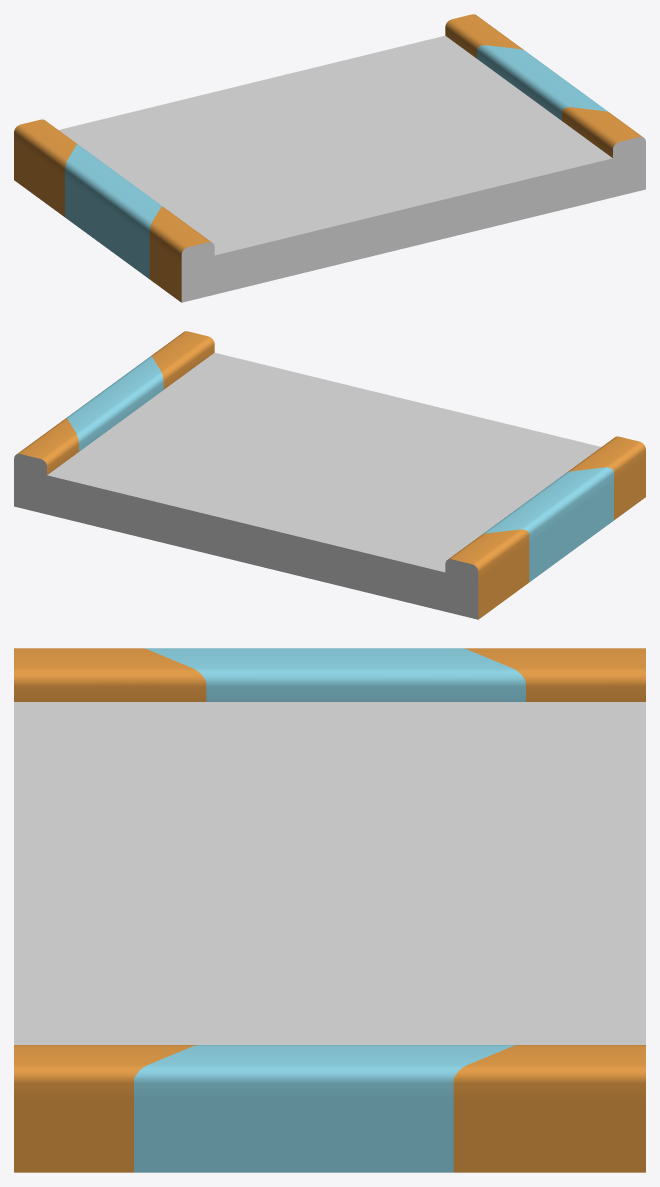
Rendered from GROUND.fbx.
3 renders of one model, top to bottom at view 1: azimuth 30°, elevation 25°; view 2: azimuth 150°, elevation 25°; view 3: azimuth 270°, elevation 25°, orthographic. The views are drawn at different scales.
Parts seen in each view (by area): view 1: Plane; view 2: Plane; view 3: Plane.
Boxes of the visible parts, x1,y1,x2,y2 form: Plane: [14, 14, 645, 302]; Plane: [14, 331, 645, 619]; Plane: [14, 648, 645, 1172].
Size of the model in its own units: 360 by 40 by 225.
